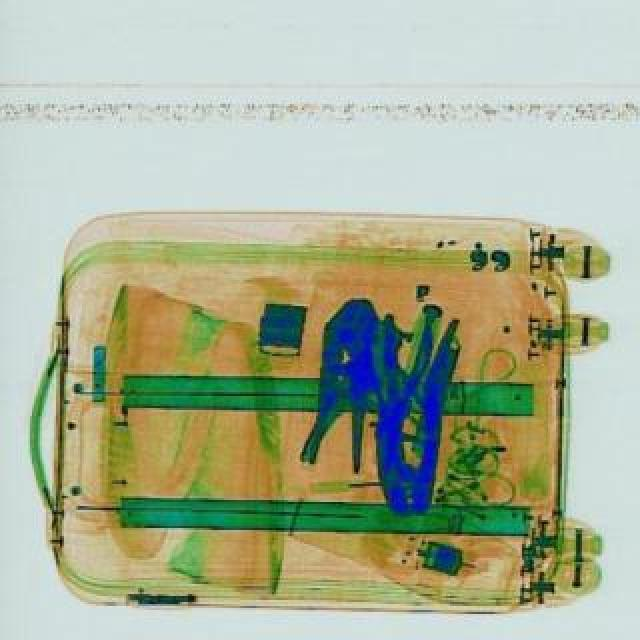wrench: (370, 310, 458, 516), (368, 310, 436, 442)
